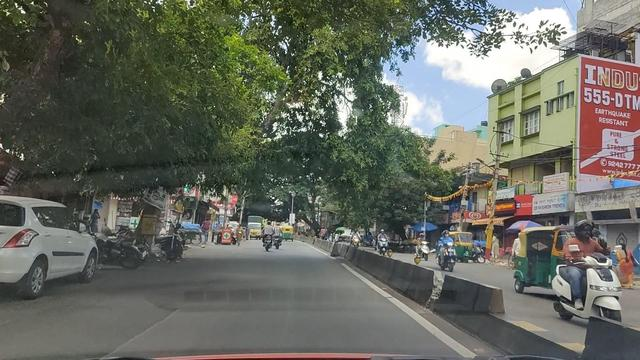LMV: (0, 194, 105, 293)
RoadDamages: (39, 299, 173, 359)
